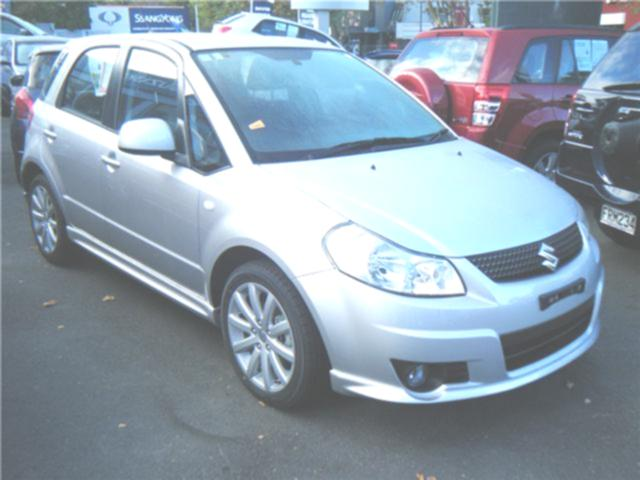suzuki: (533, 240, 567, 275)
